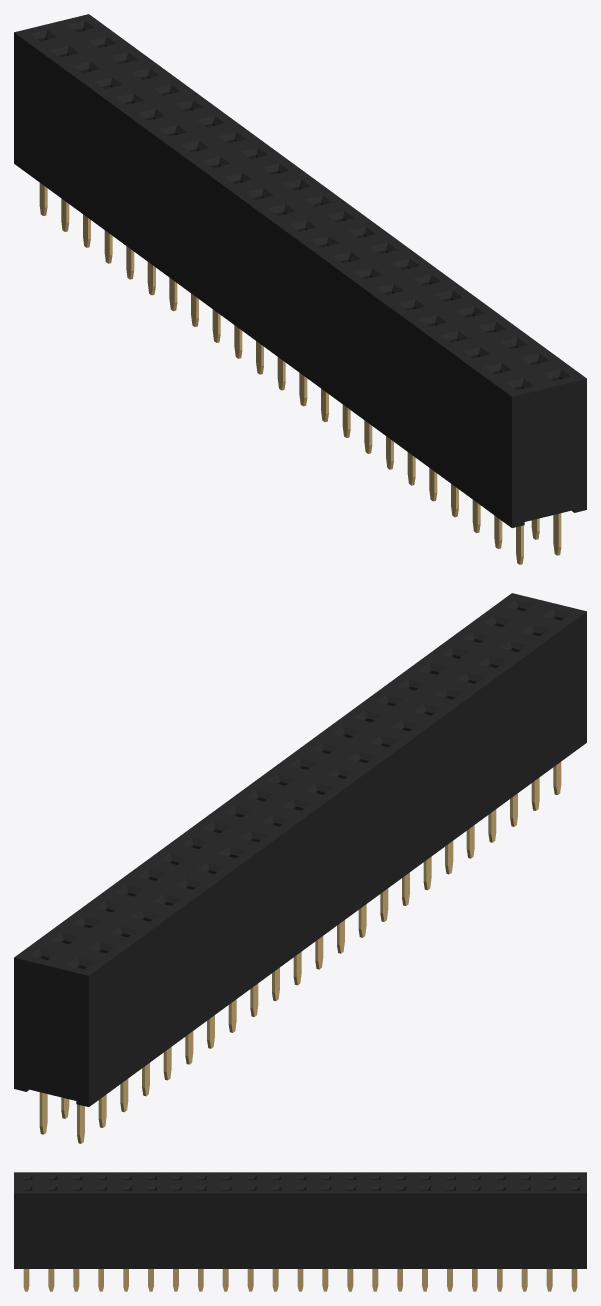
File: kc-pinsocket_2x23_p2.54mm_vertical.glb
The picture shows the model from 3 angles, top to bottom: view 1: azimuth 30°, elevation 25°; view 2: azimuth 150°, elevation 25°; view 3: azimuth 270°, elevation 25°; orthographic projection. The views are drawn at different scales.
Visible parts, largest first — view 1: 0_0_0_0, 0.75_0.5_0.25_0.9; view 2: 0_0_0_0, 0.75_0.5_0.25_0.9; view 3: 0_0_0_0, 0.75_0.5_0.25_0.9.
Boxes of the visible parts, x1,y1,x2,y2 form: 0_0_0_0: [14, 14, 586, 527]; 0.75_0.5_0.25_0.9: [39, 183, 561, 564]; 0_0_0_0: [14, 593, 586, 1106]; 0.75_0.5_0.25_0.9: [39, 762, 561, 1143]; 0_0_0_0: [14, 1172, 586, 1268]; 0.75_0.5_0.25_0.9: [23, 1269, 577, 1291].
Bounding box in the file's own units: 0.5078 × 1.16 × 5.84.
